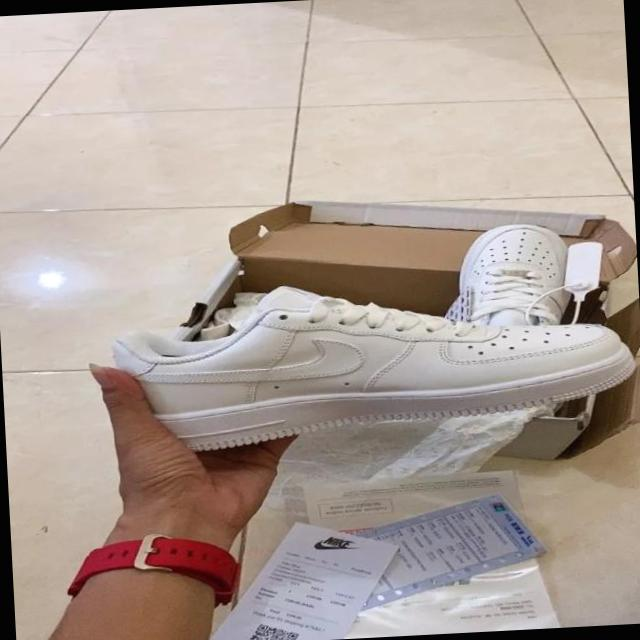nike_original_airforce: (107, 269, 636, 455), (452, 222, 580, 330)
